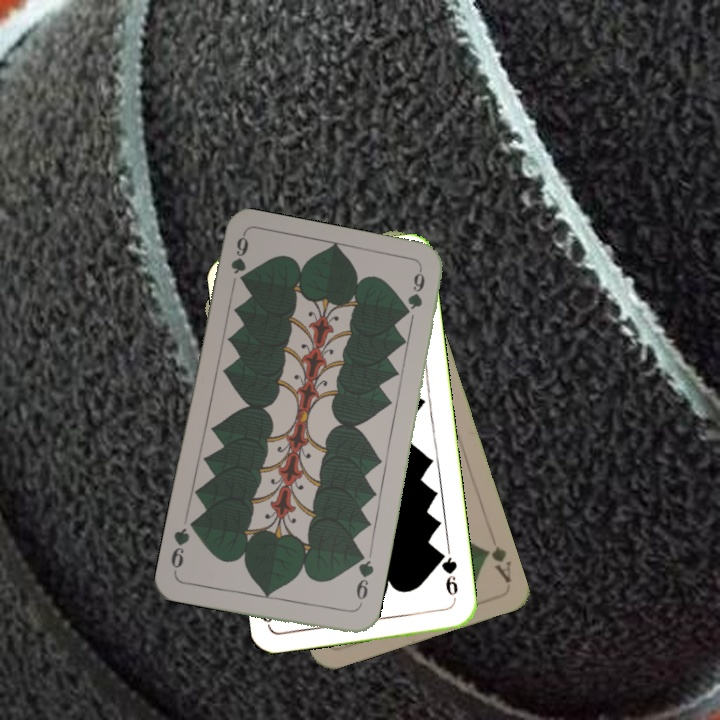G9: (352, 551, 376, 611), (435, 547, 461, 598), (227, 232, 251, 286)
GA: (479, 541, 514, 586)
